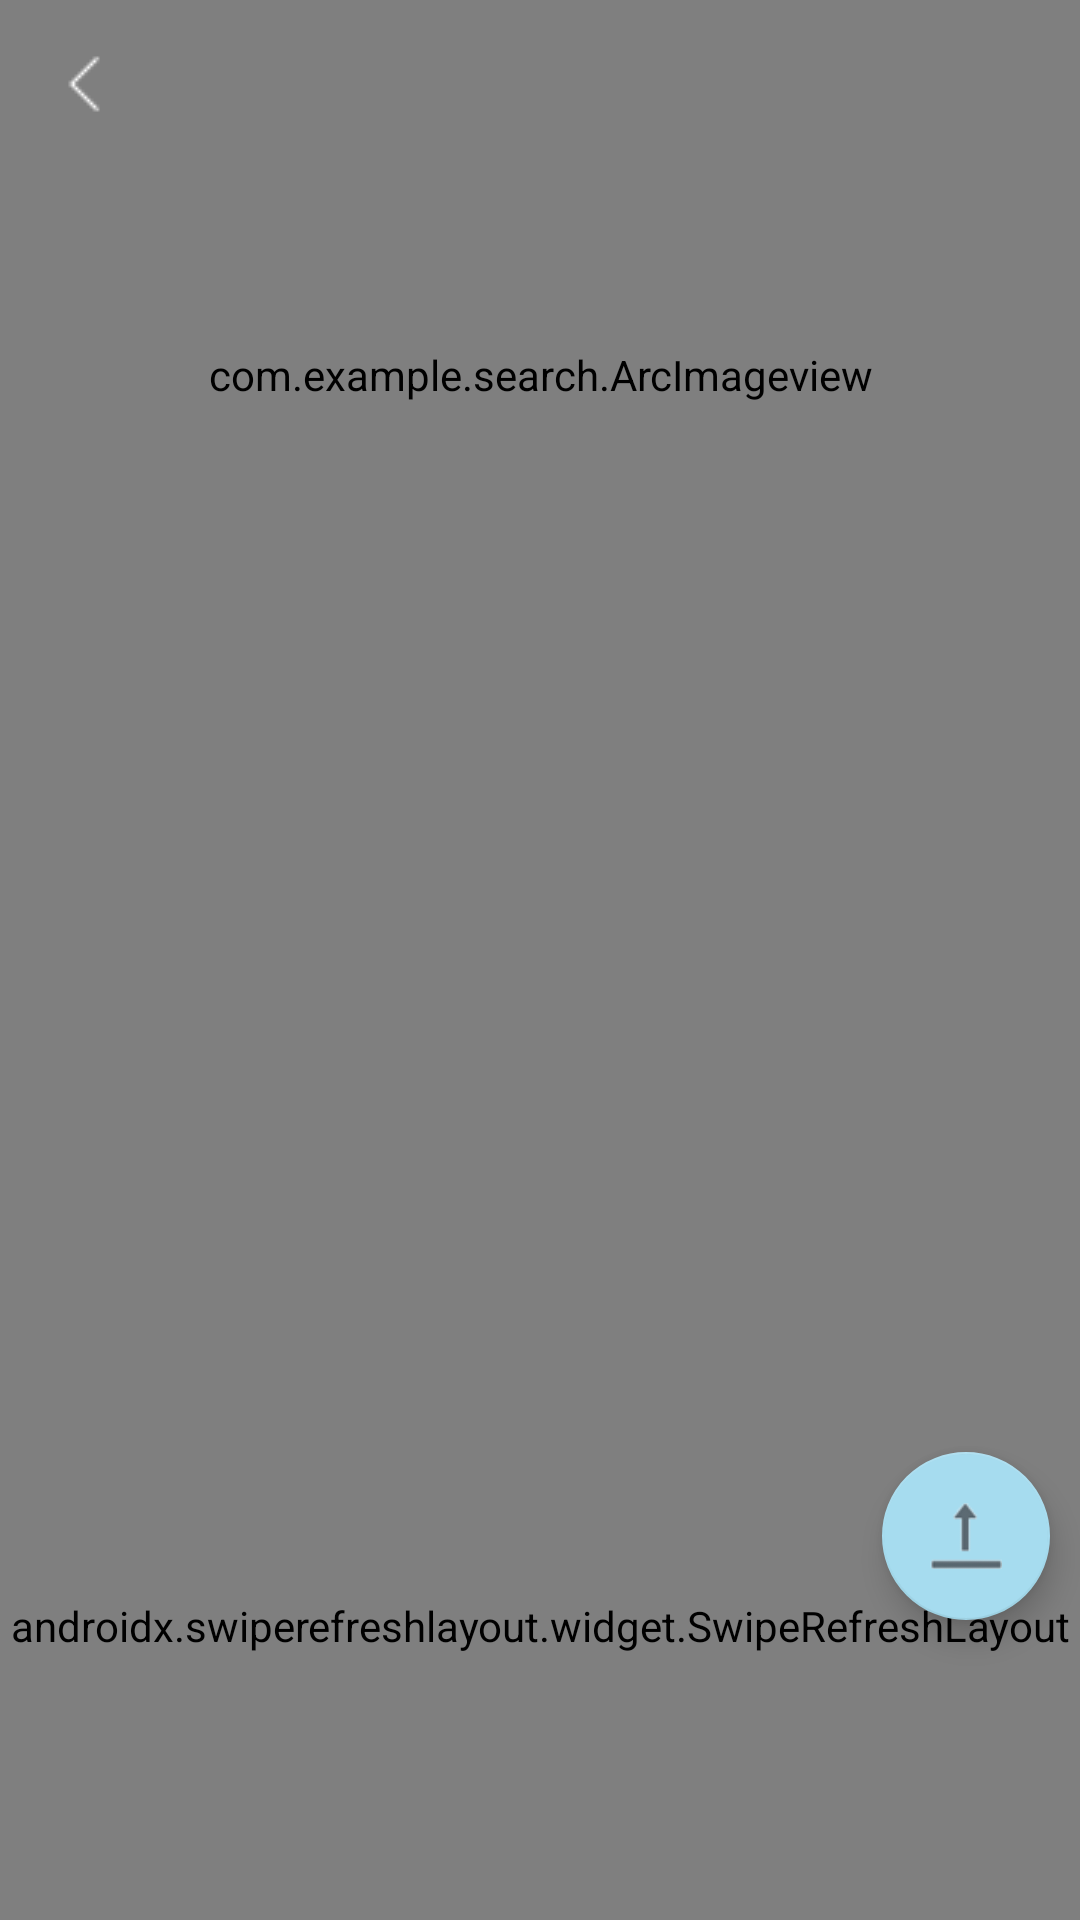

Screen size 1080x1920. Icon name, then its box in pixels as Rect(x1, y1, x2, y2):
totop: Rect(882, 1452, 1050, 1620)
